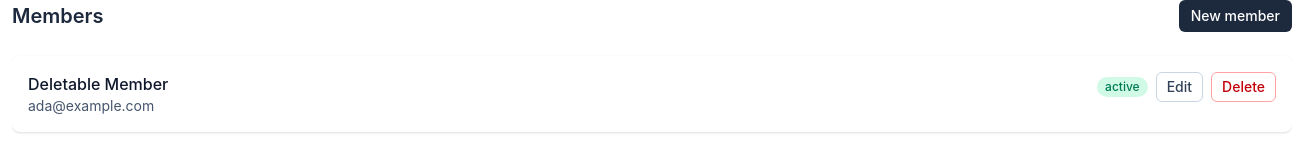
MembersList — role-gated management › deletes a member after inline confirmation and refreshes the list
The width and height of the screenshot is (1292, 160).
Click the button "Delete" at coordinates (1244, 87), box [1211,72,1276,102]
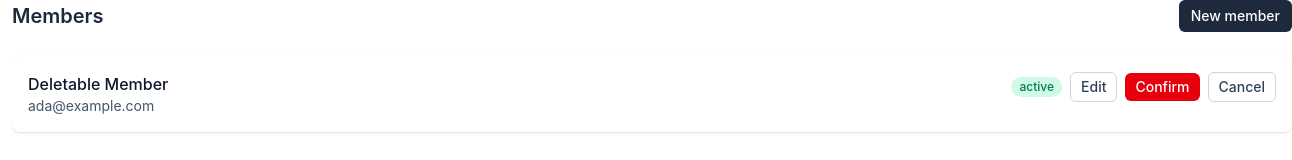
Click the button "Confirm" at coordinates (1163, 87), box [1126,73,1200,101]
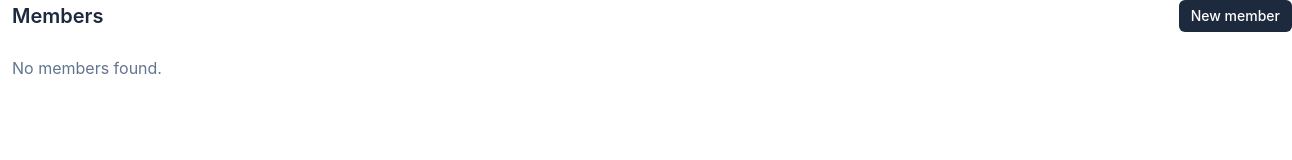
Check: the text "No members found." is shown, box [12,58,162,78]
Check: the link "Deletable Member" is gone
